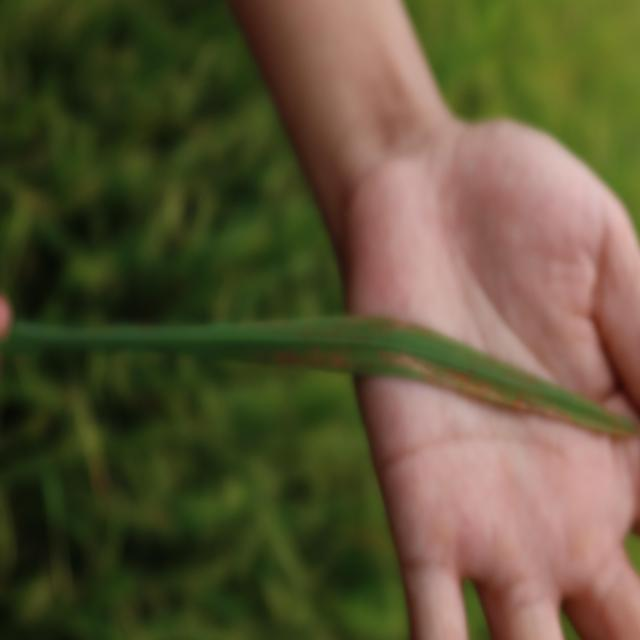Dom soc vi khuan: (447, 373, 530, 406), (389, 351, 437, 380)
